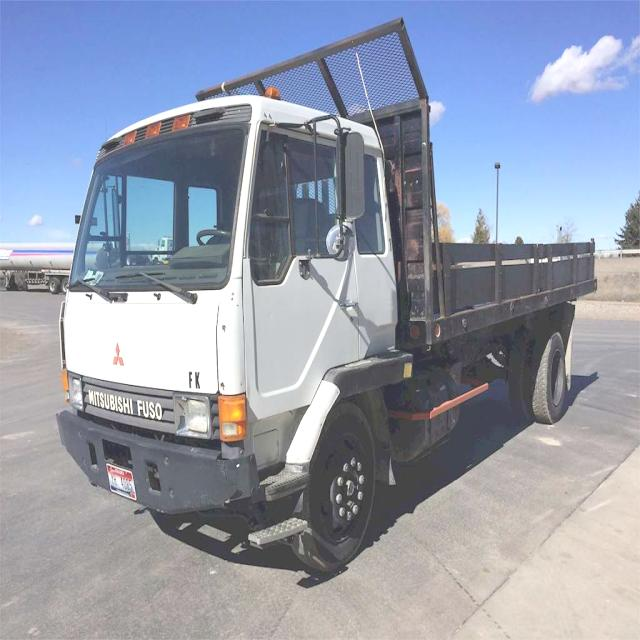truck: (57, 16, 597, 572)
